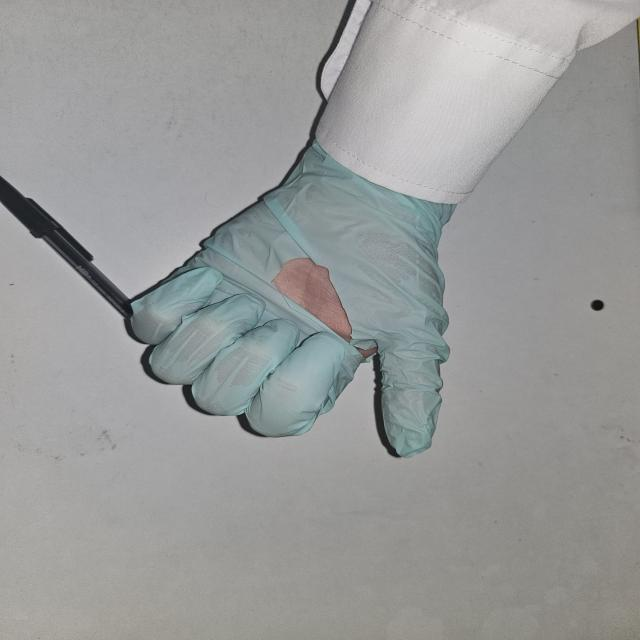gloves_damaged: (125, 131, 450, 458)
